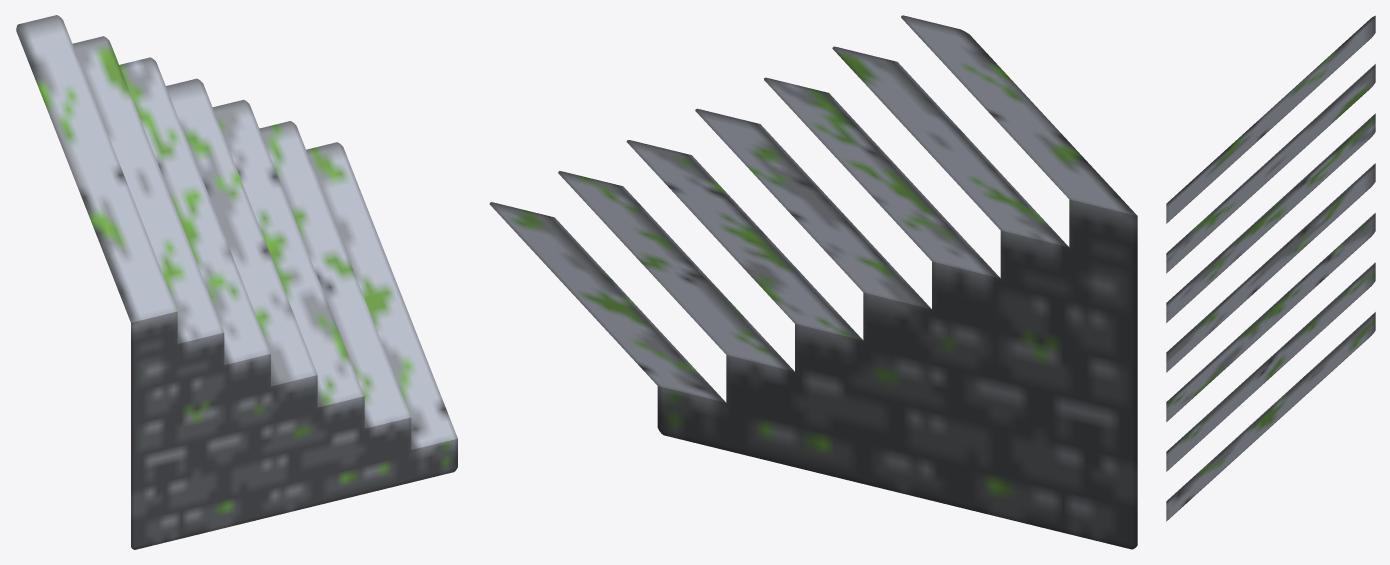
Rendered from SideStairsLeft.fbx.
3 renders of one model, left to right at view 1: azimuth 30°, elevation 25°; view 2: azimuth 150°, elevation 25°; view 3: azimuth 270°, elevation 25°, orthographic. The views are drawn at different scales.
Parts seen in each view (by area): view 1: Plane; view 2: Plane; view 3: Plane.
Boxes of the visible parts, x1=… form: Plane: x1=16, y1=15, x2=457, y2=549; Plane: x1=489, y1=15, x2=1137, y2=549; Plane: x1=1166, y1=15, x2=1375, y2=521.
Bounding box in the file's own units: 42 × 54 × 26.
